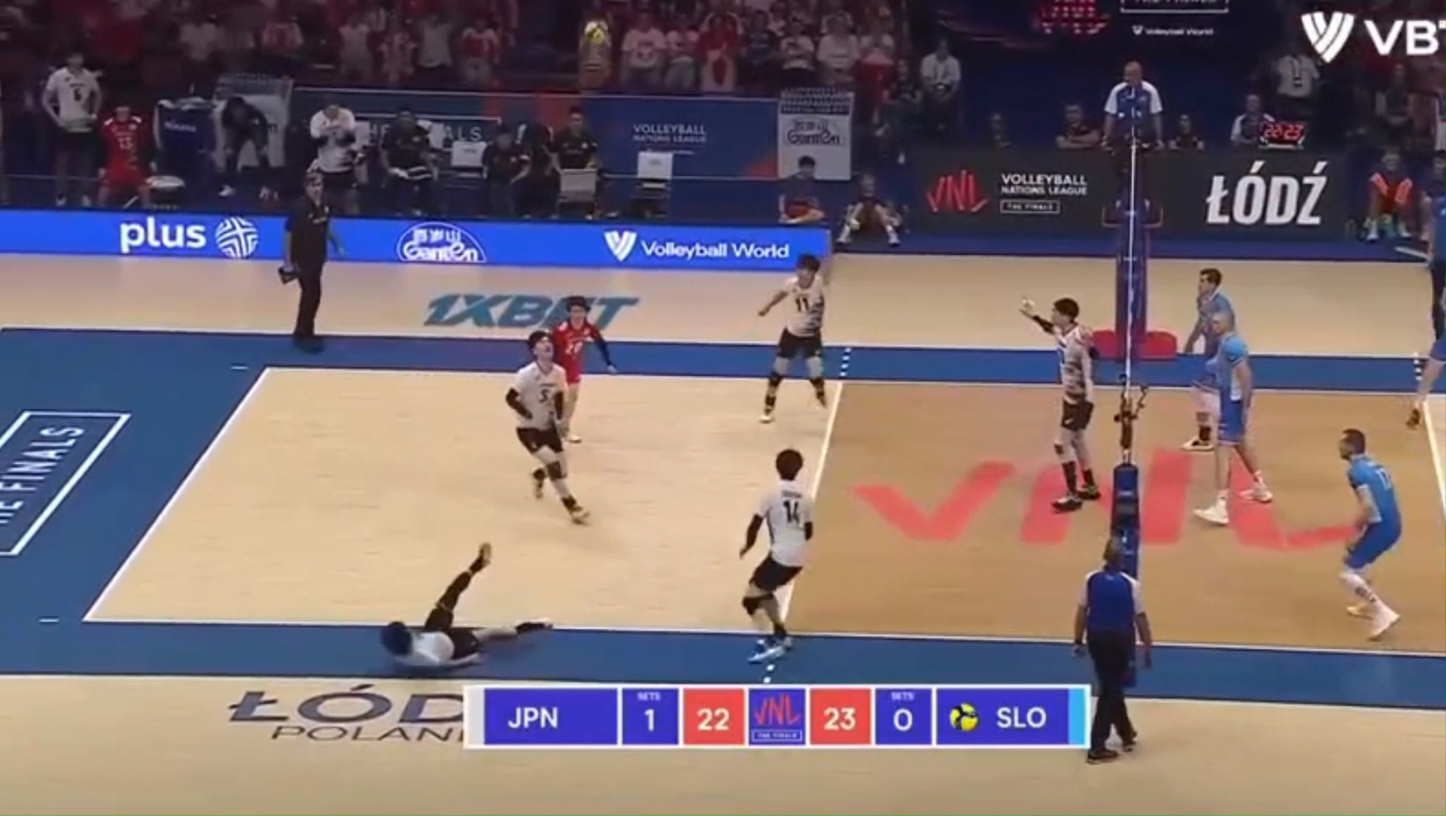ball: (583, 20, 609, 42)
player: (1194, 312, 1272, 526), (1338, 428, 1402, 639), (1182, 268, 1234, 451), (1416, 338, 1445, 407)
player 1: (380, 543, 552, 670), (1021, 298, 1100, 512), (505, 330, 587, 523), (740, 449, 813, 662), (759, 254, 828, 423), (551, 296, 615, 422)
referee: (1074, 539, 1152, 762), (278, 171, 341, 351), (1101, 61, 1162, 225), (1426, 192, 1445, 341)
